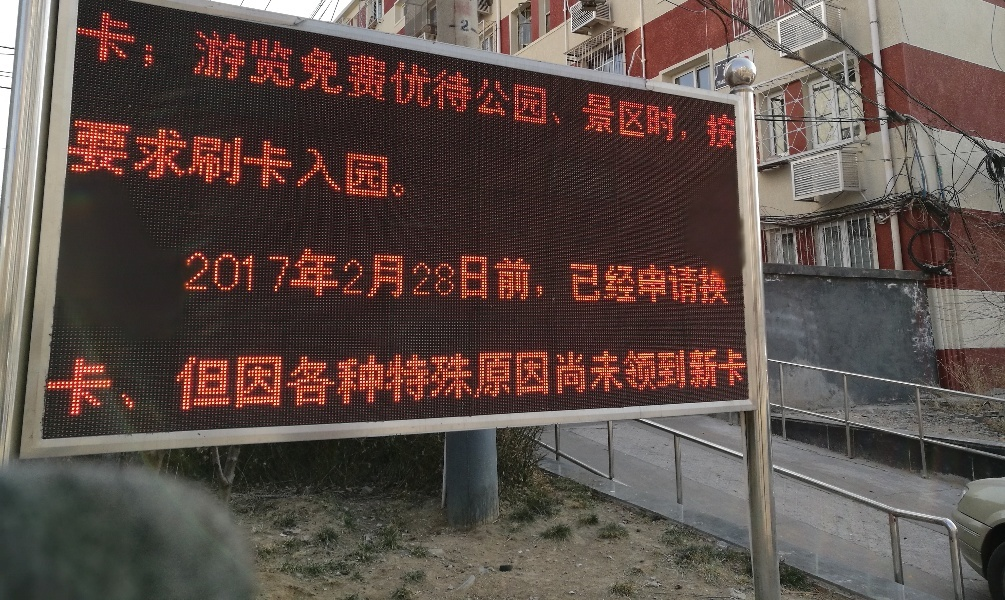text: (81, 9, 96, 151), (97, 9, 112, 151), (113, 9, 128, 151), (129, 9, 144, 151), (145, 9, 160, 151), (161, 9, 176, 151), (177, 9, 192, 151), (193, 9, 208, 151), (209, 9, 224, 151), (225, 9, 240, 151), (241, 9, 256, 151), (257, 9, 272, 151), (273, 9, 288, 151), (289, 9, 304, 151), (305, 9, 320, 151), (321, 9, 336, 151), (337, 9, 352, 151), (353, 9, 368, 151), (369, 9, 384, 151), (385, 9, 400, 151), (401, 9, 416, 151), (417, 9, 432, 151), (433, 9, 448, 151), (449, 9, 464, 151), (465, 9, 480, 151), (481, 9, 496, 151), (497, 9, 512, 151), (513, 9, 528, 151), (529, 9, 544, 151), (545, 9, 560, 151), (561, 9, 576, 151), (577, 9, 592, 151), (593, 9, 608, 151), (609, 9, 624, 151), (625, 9, 640, 151), (641, 9, 656, 151), (657, 9, 672, 151), (673, 9, 688, 151), (689, 9, 704, 151), (705, 9, 720, 151), (721, 9, 736, 151), (81, 118, 96, 202), (97, 118, 112, 202), (113, 118, 128, 202), (129, 118, 144, 202), (145, 118, 160, 202), (161, 118, 176, 202), (177, 118, 192, 202), (193, 118, 208, 202), (209, 118, 224, 202), (225, 118, 240, 202), (241, 118, 256, 202), (257, 118, 272, 202), (273, 118, 288, 202), (289, 118, 304, 202), (305, 118, 320, 202), (321, 118, 336, 202), (337, 118, 352, 202), (353, 118, 368, 202), (369, 118, 384, 202), (385, 118, 400, 202), (65, 346, 80, 424), (81, 346, 96, 424), (97, 346, 112, 424), (113, 346, 128, 424), (129, 346, 144, 424), (145, 346, 160, 424), (161, 346, 176, 424), (177, 346, 192, 424), (193, 346, 208, 424), (209, 346, 224, 424), (225, 346, 240, 424), (241, 346, 256, 424), (257, 346, 272, 424), (273, 346, 288, 424), (289, 346, 304, 424), (305, 346, 320, 424), (321, 346, 336, 424), (337, 346, 352, 424), (353, 346, 368, 424), (369, 346, 384, 424), (385, 346, 400, 424), (401, 346, 416, 424), (417, 346, 432, 424), (433, 346, 448, 424), (449, 346, 464, 424), (465, 346, 480, 424), (481, 346, 496, 424), (497, 346, 512, 424), (513, 346, 528, 424), (529, 346, 544, 424), (545, 346, 560, 424), (561, 346, 576, 424), (577, 346, 592, 424), (593, 346, 608, 424), (609, 346, 624, 424), (625, 346, 640, 424), (641, 346, 656, 424), (657, 346, 672, 424), (673, 346, 688, 424), (689, 346, 704, 424), (705, 346, 720, 424), (721, 346, 736, 424), (50, 346, 64, 424), (193, 246, 208, 308), (209, 246, 224, 308), (225, 246, 240, 308), (241, 246, 256, 308), (257, 246, 272, 308), (273, 246, 288, 308), (289, 246, 304, 308), (305, 246, 320, 308), (321, 246, 336, 308), (337, 246, 352, 308), (353, 246, 368, 308), (369, 246, 384, 308), (385, 246, 400, 308), (401, 246, 416, 308), (417, 246, 432, 308), (433, 246, 448, 308), (449, 246, 464, 308), (465, 246, 480, 308), (481, 246, 496, 308), (497, 246, 512, 308), (513, 246, 528, 308), (529, 246, 544, 308), (545, 246, 560, 308), (561, 246, 576, 308), (577, 246, 592, 308), (593, 246, 608, 308), (609, 246, 624, 308), (625, 246, 640, 308), (641, 246, 656, 308), (657, 246, 672, 308), (673, 246, 688, 308), (689, 246, 704, 308), (705, 246, 720, 308), (737, 346, 746, 424), (181, 246, 192, 308), (721, 246, 732, 308), (72, 118, 80, 202), (401, 118, 409, 202), (79, 9, 80, 151), (737, 9, 738, 151), (465, 19, 470, 32), (460, 19, 464, 32)
